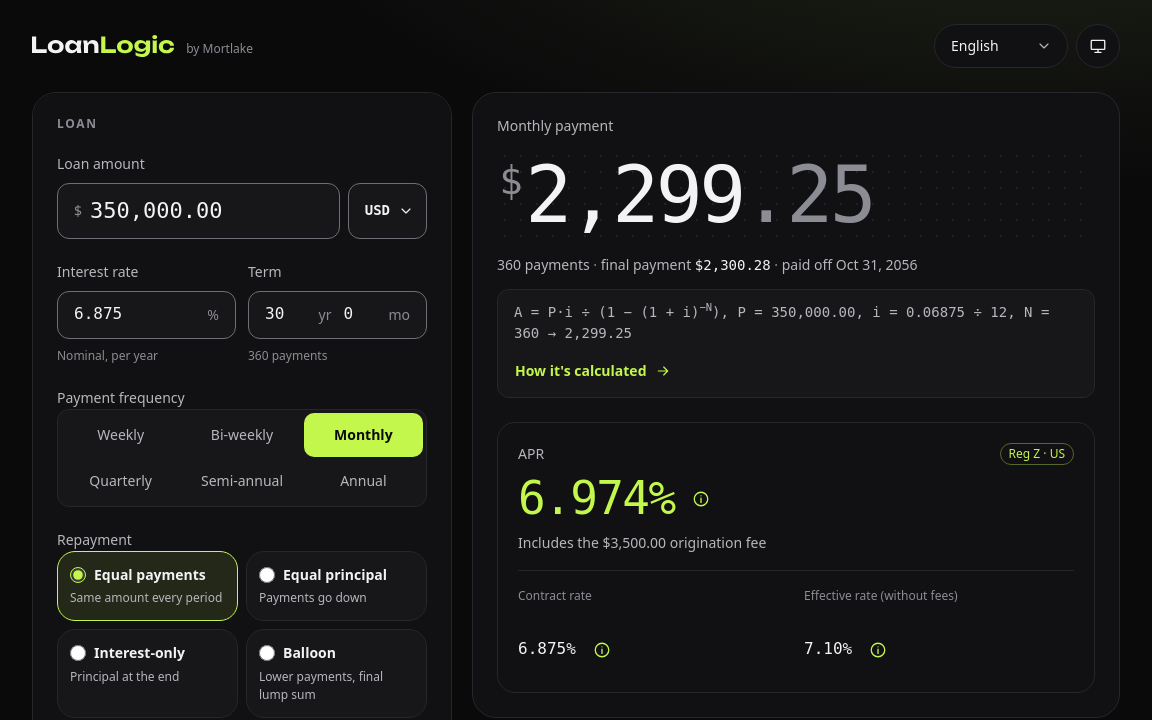
Test case: theme menu › checks the item of a preference changed elsewhere
This screenshot has width=1152, height=720.
Click the button named "Theme": (1098, 46) left=1076, top=24, right=1120, bottom=68
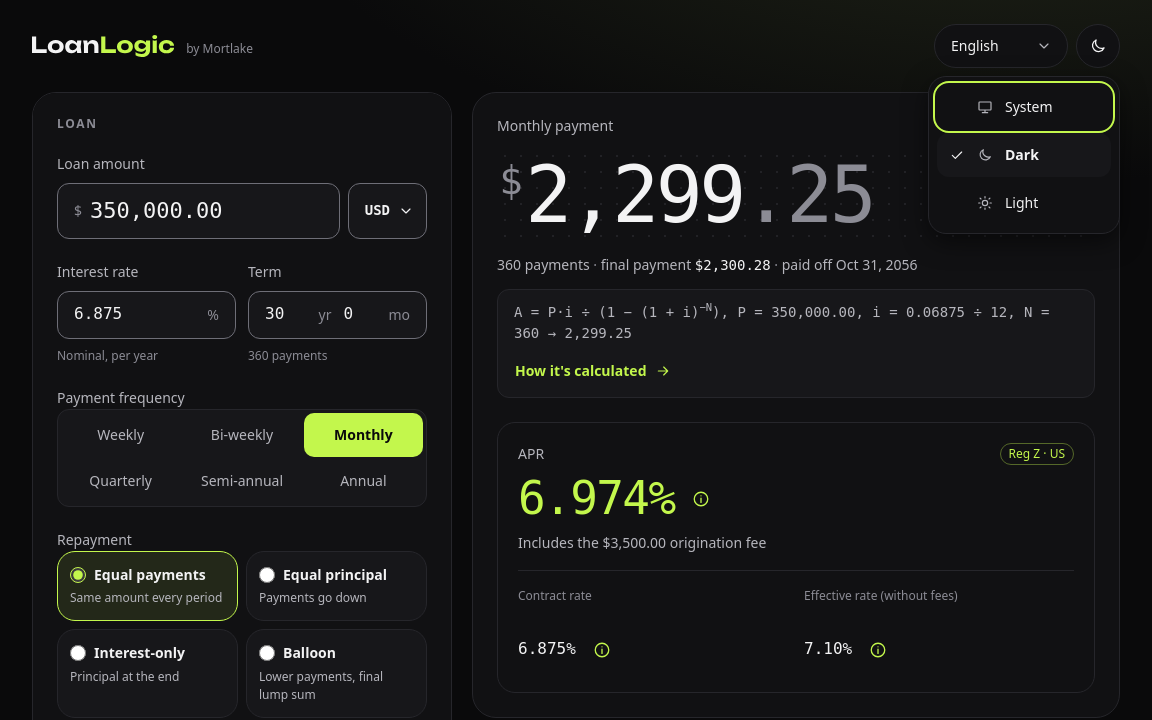
Check: the button named "Theme" is expanded, box left=1076, top=24, right=1120, bottom=68
